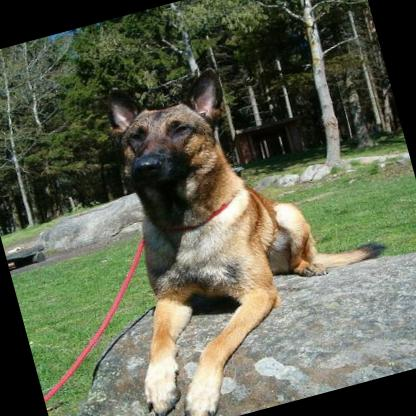malinois: (65, 34, 415, 416)
